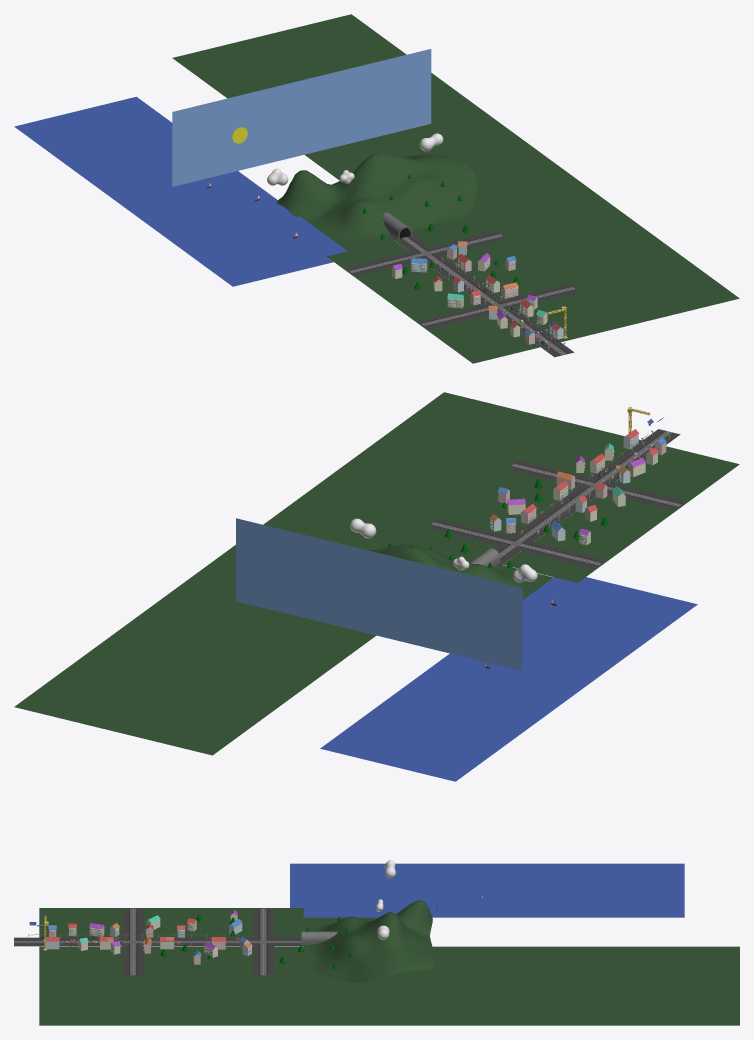
The model's file is basketballGameProject_Environment.fbx.
3 views of the same model, one above another, from view 1: azimuth 30°, elevation 25°; view 2: azimuth 150°, elevation 25°; view 3: azimuth 270°, elevation 25° (orthographic). The views are drawn at different scales.
Visible parts, largest first — view 1: groundGrass.001, sea, sky, mountain, groundGrass, roads; view 2: groundGrass.001, sea, sky, groundGrass, roads, mountain; view 3: groundGrass.001, sea, mountain, groundGrass, roads, tunnel.
Boxes of the visible parts, bbox=[...] form: groundGrass.001: bbox=[172, 14, 739, 341]; sea: bbox=[14, 96, 347, 286]; sky: bbox=[172, 49, 431, 186]; mountain: bbox=[277, 153, 476, 251]; groundGrass: bbox=[327, 240, 539, 363]; roads: bbox=[345, 231, 579, 357]; groundGrass.001: bbox=[14, 392, 641, 755]; sea: bbox=[320, 577, 697, 781]; sky: bbox=[236, 518, 522, 670]; groundGrass: bbox=[503, 446, 739, 582]; roads: bbox=[426, 429, 686, 569]; mountain: bbox=[369, 544, 553, 599]; groundGrass.001: bbox=[39, 946, 739, 1025]; sea: bbox=[290, 863, 684, 917]; mountain: bbox=[303, 900, 433, 982]; groundGrass: bbox=[39, 908, 303, 937]; roads: bbox=[14, 908, 310, 975]; tunnel: bbox=[301, 931, 337, 944].
Bounding box in the file's own units: 477 × 103 × 903.
